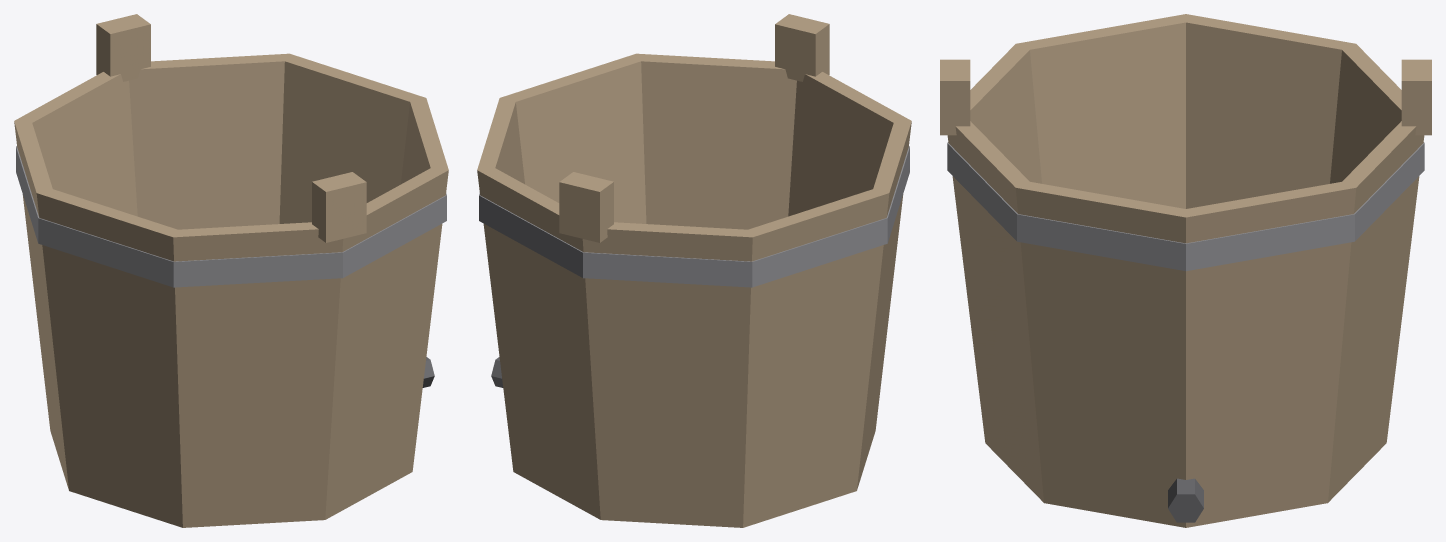
File: prop-lye-tub-small.fbx
3 views of the same model, side by side, from view 1: azimuth 30°, elevation 25°; view 2: azimuth 150°, elevation 25°; view 3: azimuth 270°, elevation 25° (orthographic). The views are drawn at different scales.
Parts seen in each view (by area): view 1: prop-lye-tub-small; view 2: prop-lye-tub-small; view 3: prop-lye-tub-small.
Part boxes in pixels (x1,y1,x2,y2): prop-lye-tub-small: [14, 14, 448, 527]; prop-lye-tub-small: [477, 14, 911, 527]; prop-lye-tub-small: [940, 14, 1431, 527].
Size of the model in its own units: 48 by 41 by 49.
